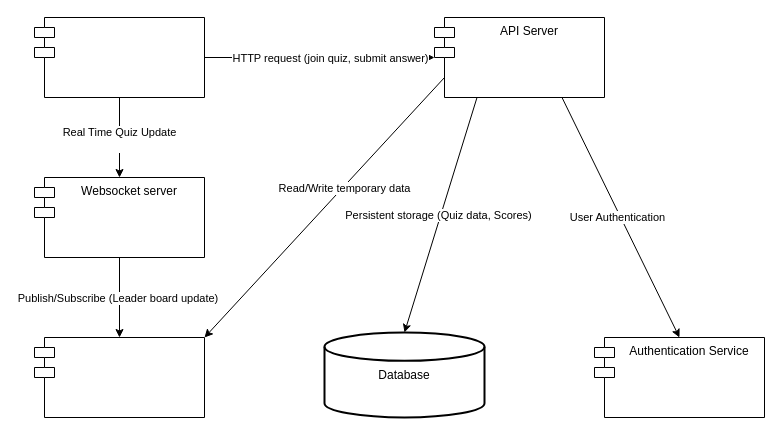
Some shapes in this 782 by 436 pixel diagram are drawn without their labels. Each missing label, with the box of its shape:
Cache(Redis): (34, 336, 204, 418)
Client Web / Mobile: (34, 16, 204, 98)
